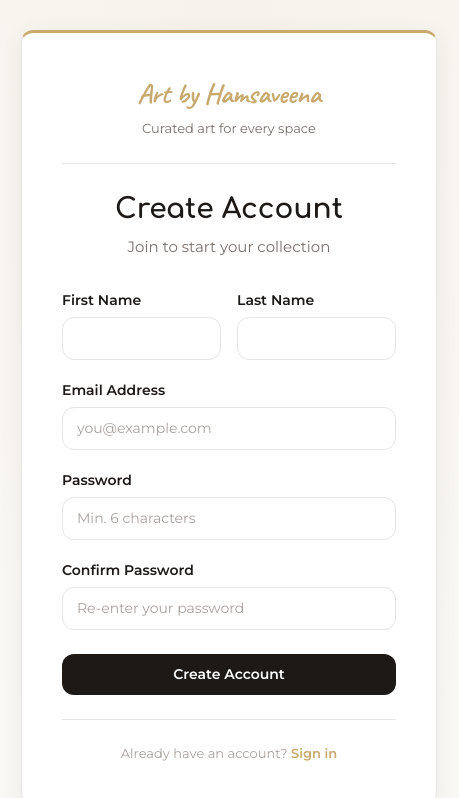
Test: SignUpForm › shows passwords do not match error
Type "Jane" into the field labelled "First Name" at (142, 338), box [62,317,221,360]
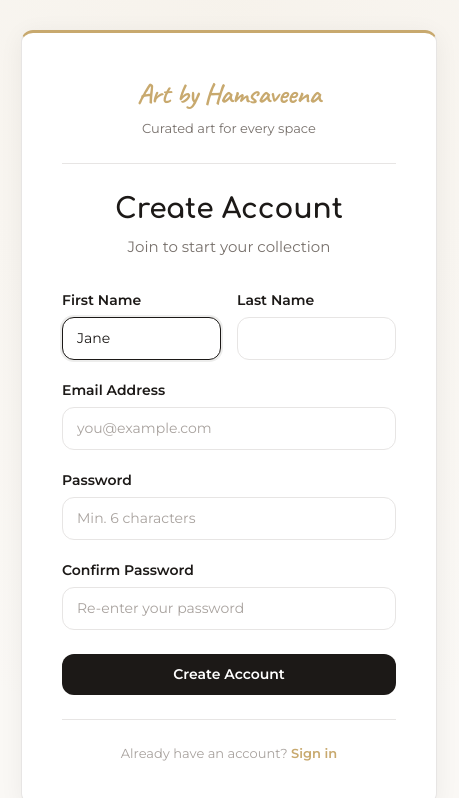
Type "Doe" into the field labelled "Last Name" at (316, 338), box [237,317,396,360]
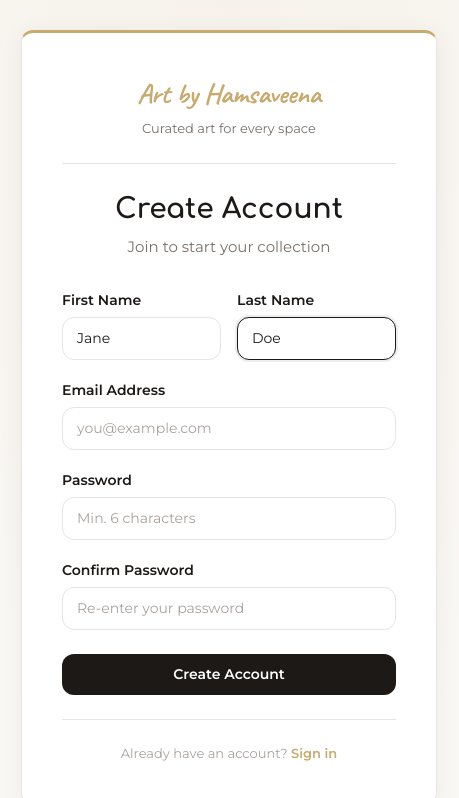
Type "jane@example.com" into the field labelled "Email Address" at (229, 428), box [62,407,396,450]
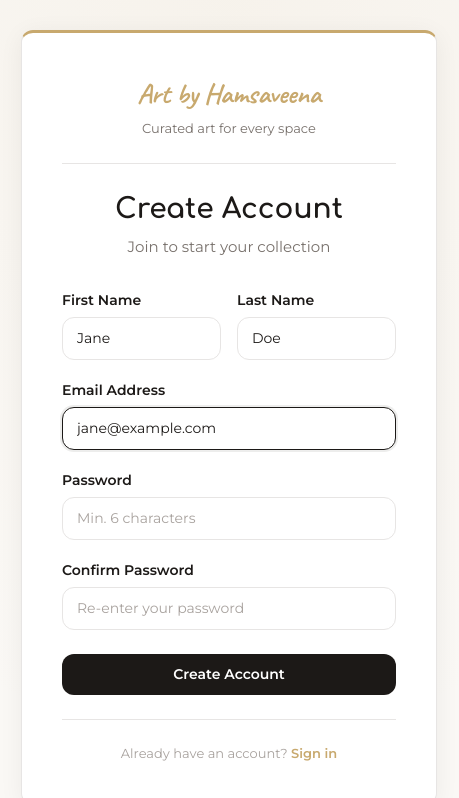
Type "secret1" into the password field labelled "Password" at (229, 518), box [62,497,396,540]
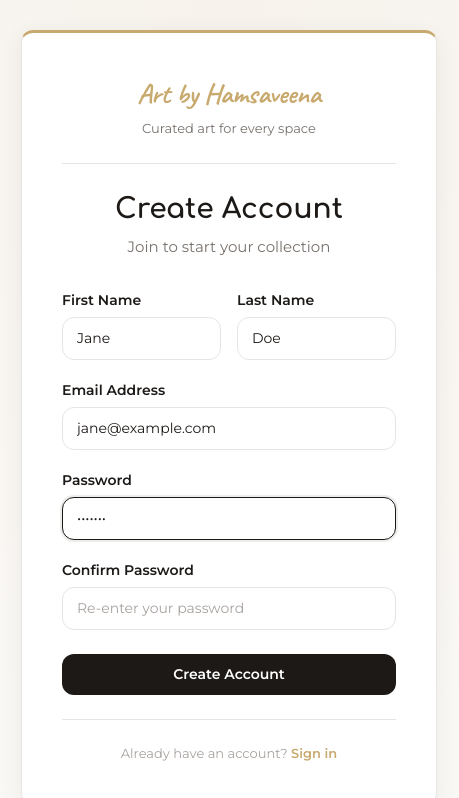
Type "different" into the password field labelled "Confirm Password" at (229, 608), box [62,587,396,630]
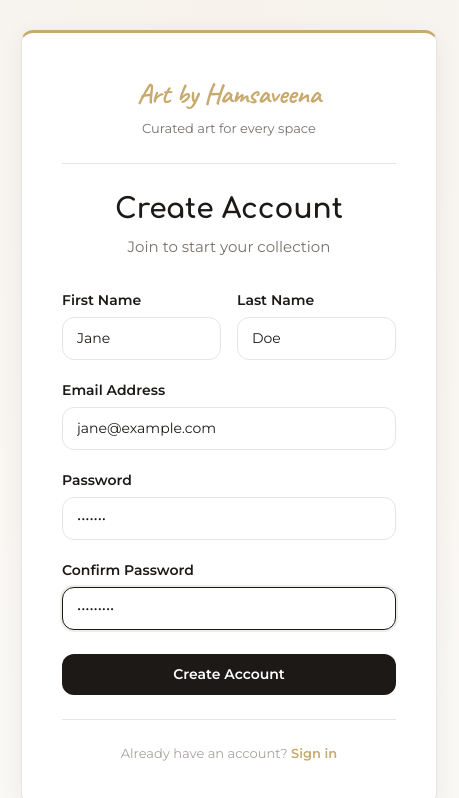
Click the button "Create Account" at (229, 674), box [62,654,396,695]
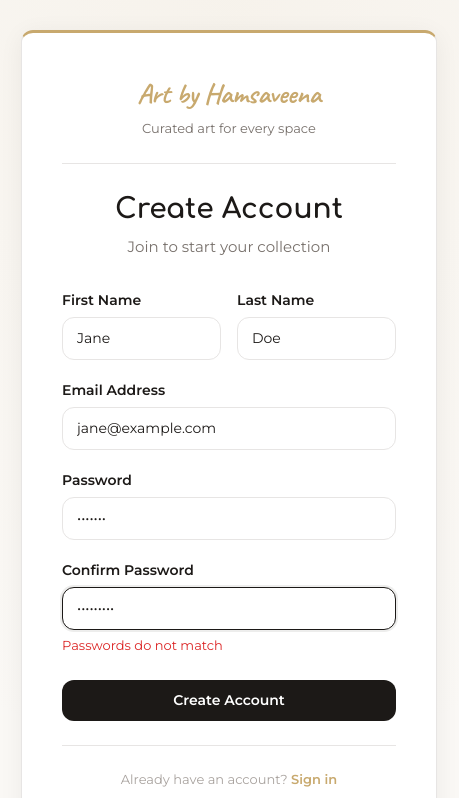
Expected: the text "Passwords do not match" is shown, [62,637,223,653]
